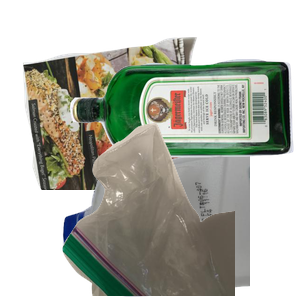glass: (67, 56, 300, 206)
paper: (20, 34, 221, 214)
plastic: (60, 135, 300, 300)
trash: (60, 120, 300, 300)
